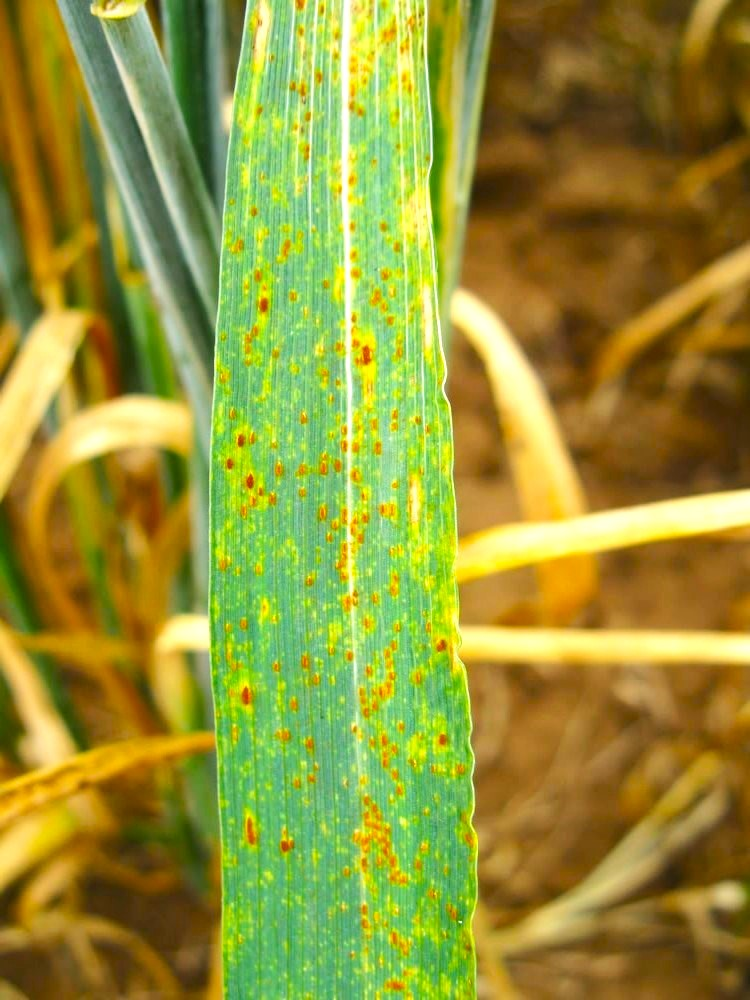Leaf Rust: (200, 92, 490, 886)
